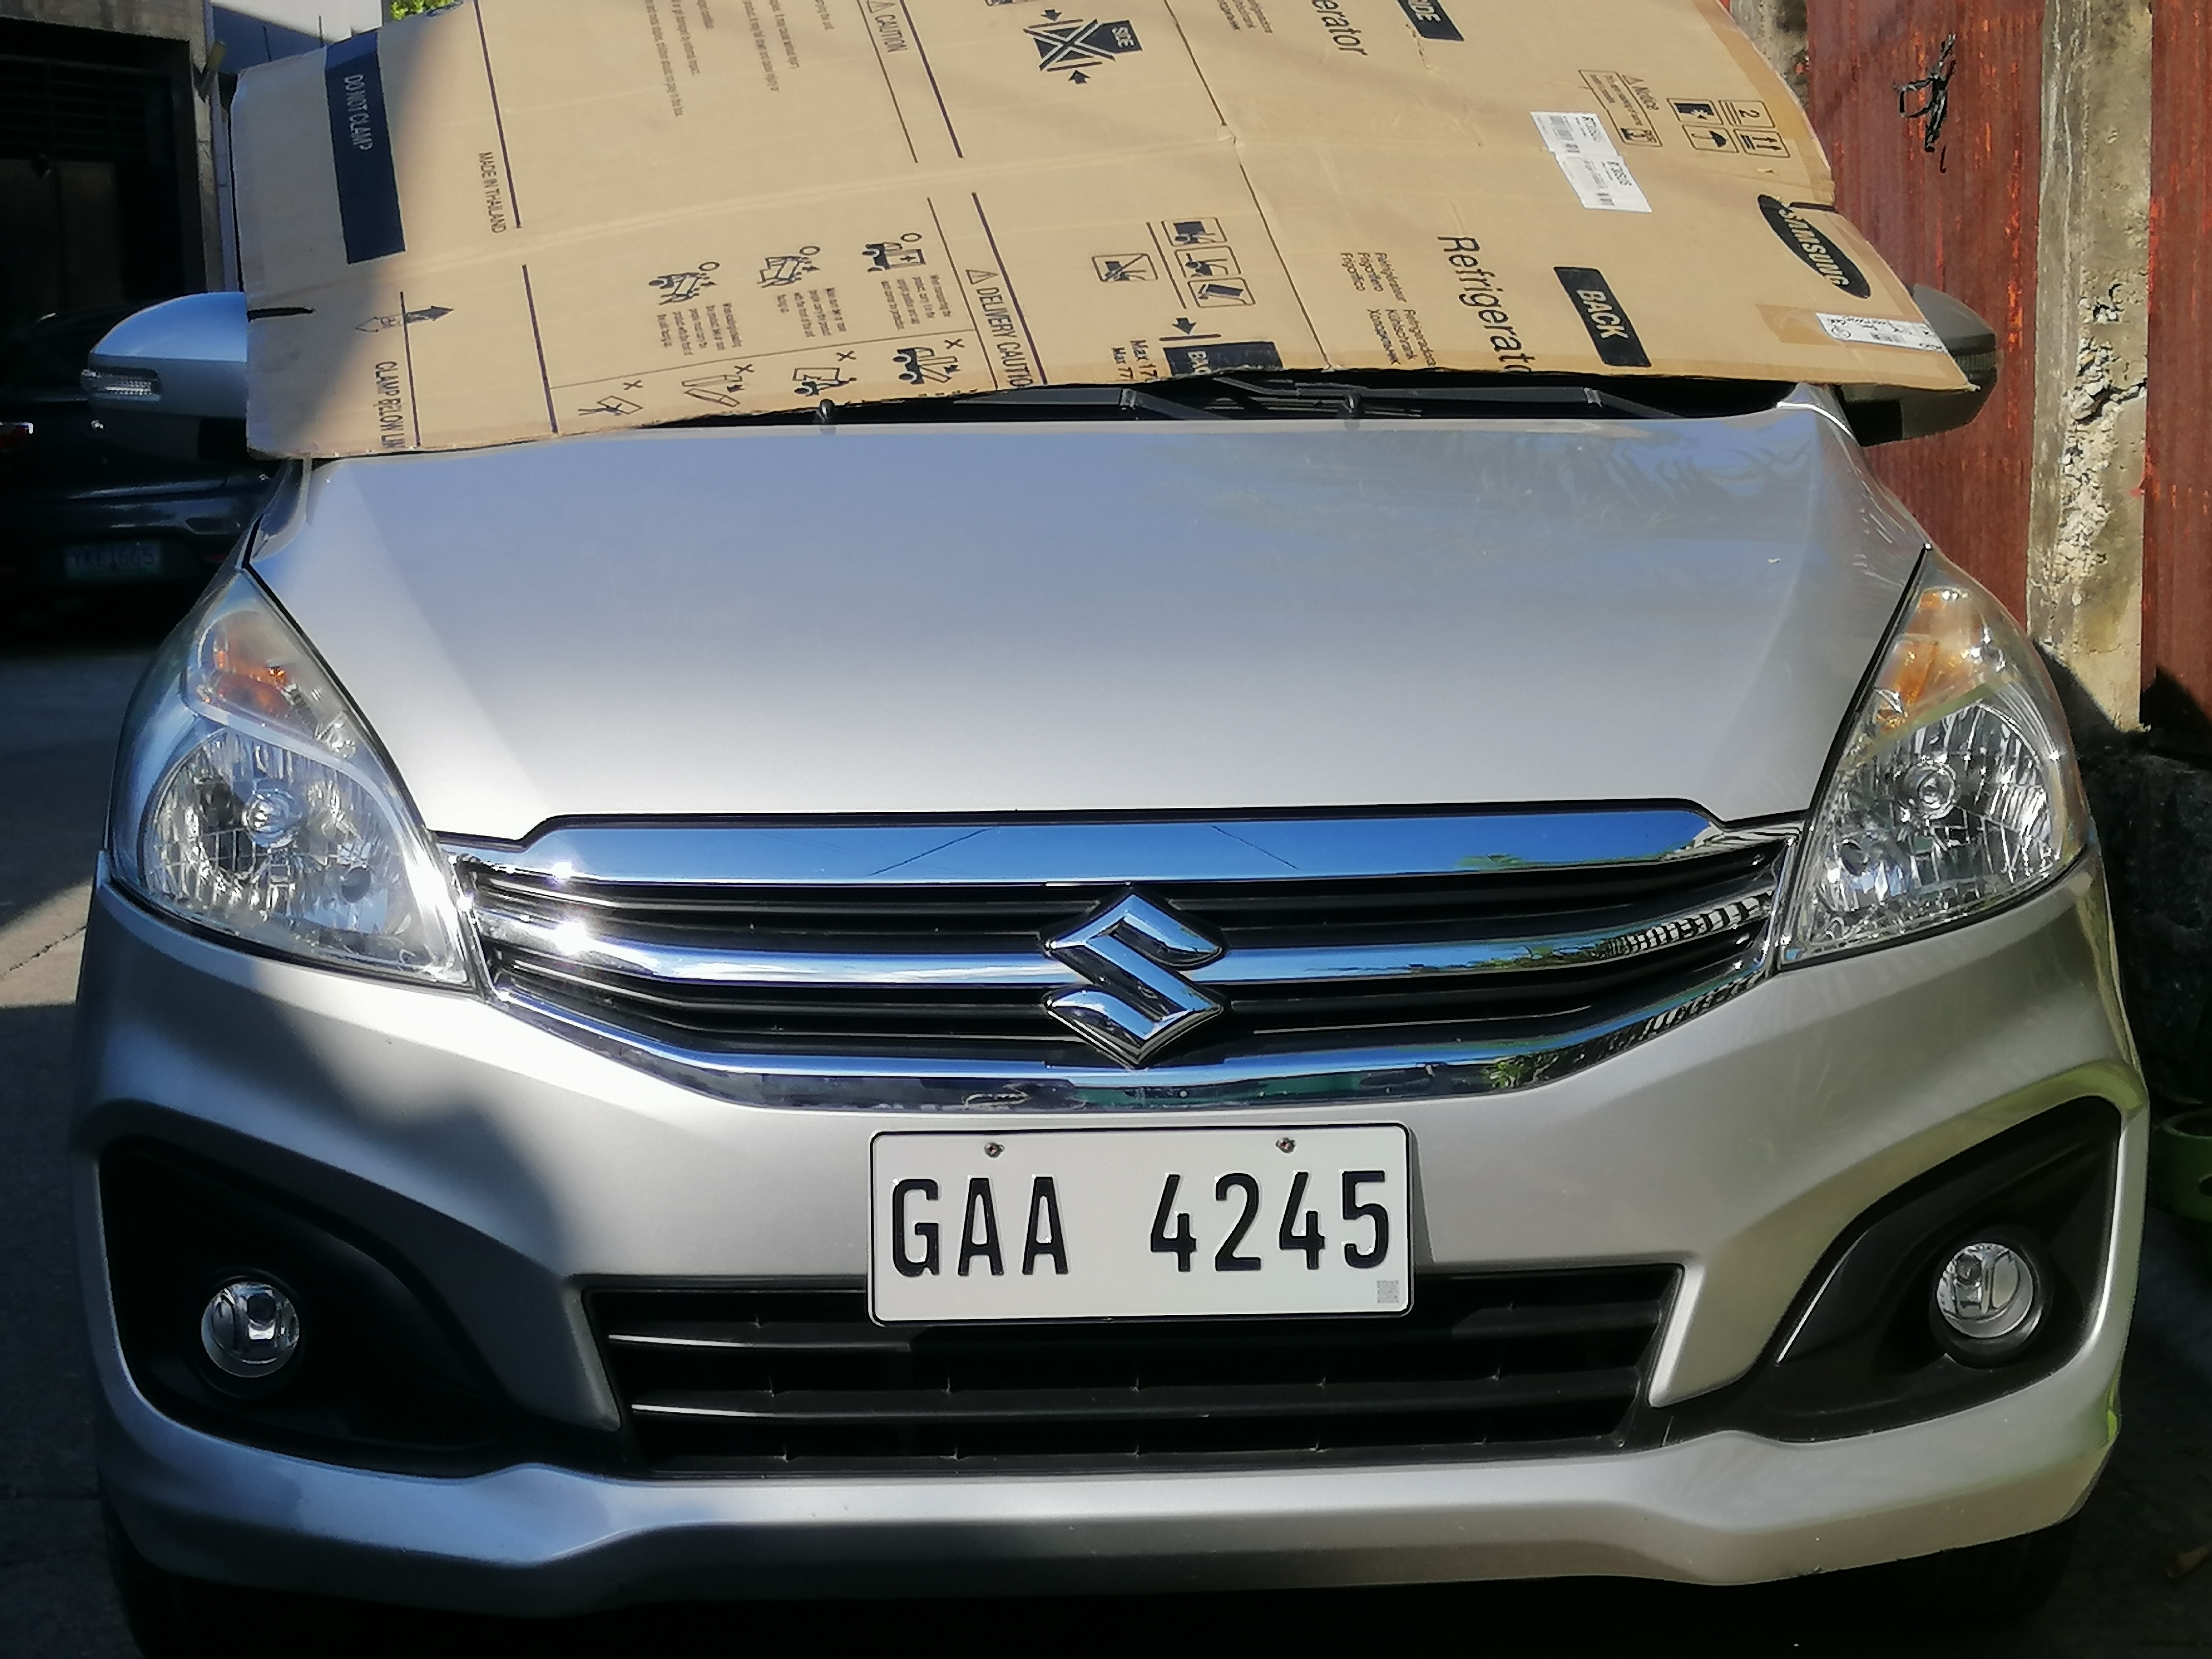vehicle: (82, 7, 2155, 1588)
